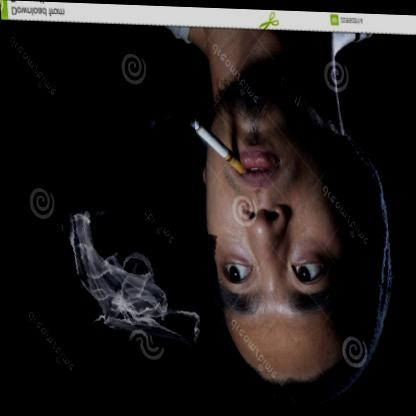smoke: (47, 209, 216, 350), (66, 96, 198, 213)
